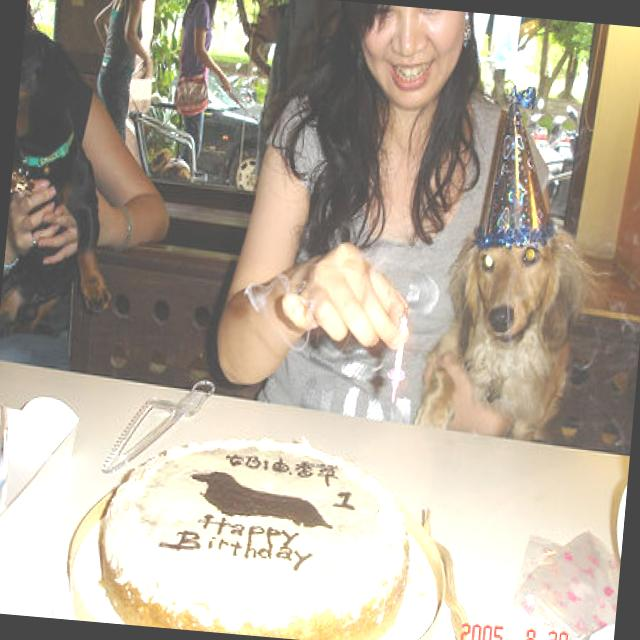Vehicle: (162, 65, 266, 192)
